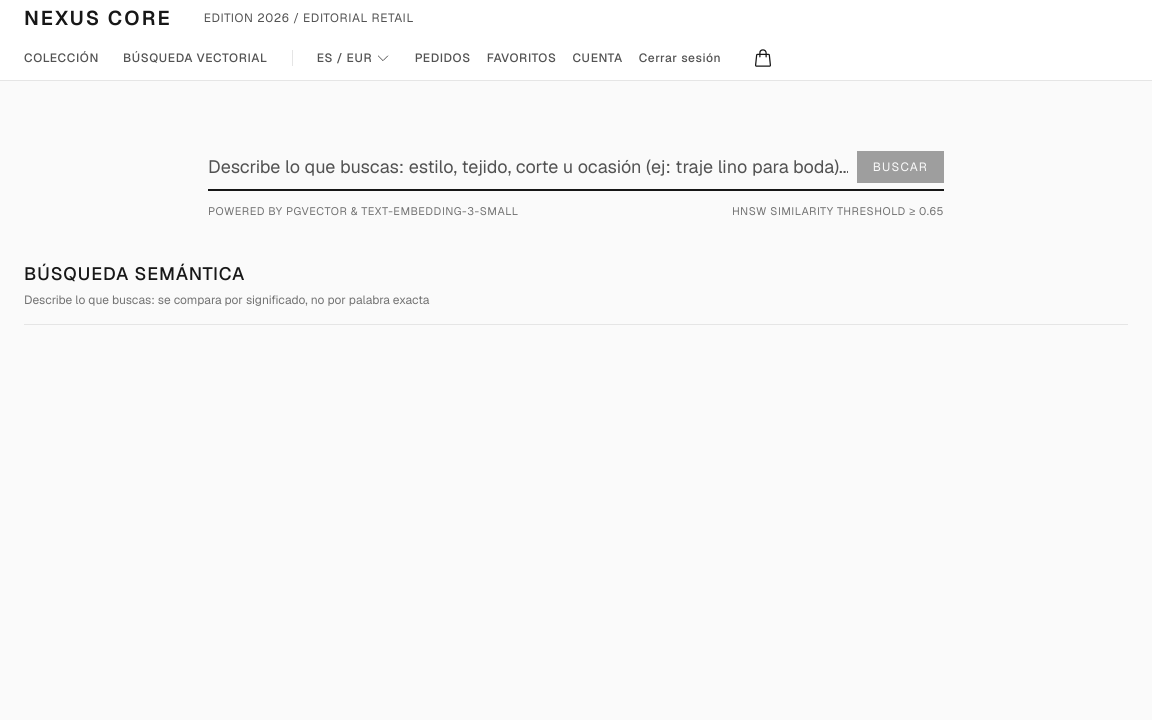
SearchPage (búsqueda semántica) › R6 — lanza la búsqueda y pinta los resultados devueltos
Type "traje lino para boda" into the field with placeholder "Describe lo que buscas".
click(576, 167); type("traje lino para boda")  # box [208, 153, 944, 181]
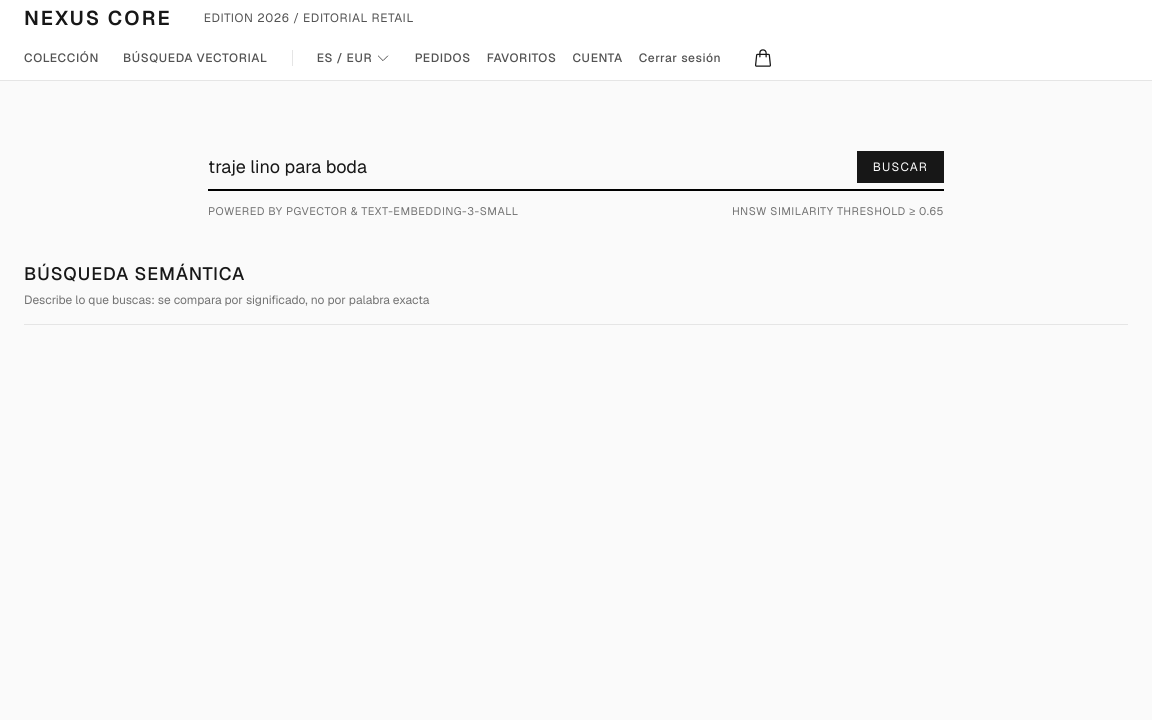
Click the button "Buscar".
click(900, 167)  # box [857, 151, 944, 183]
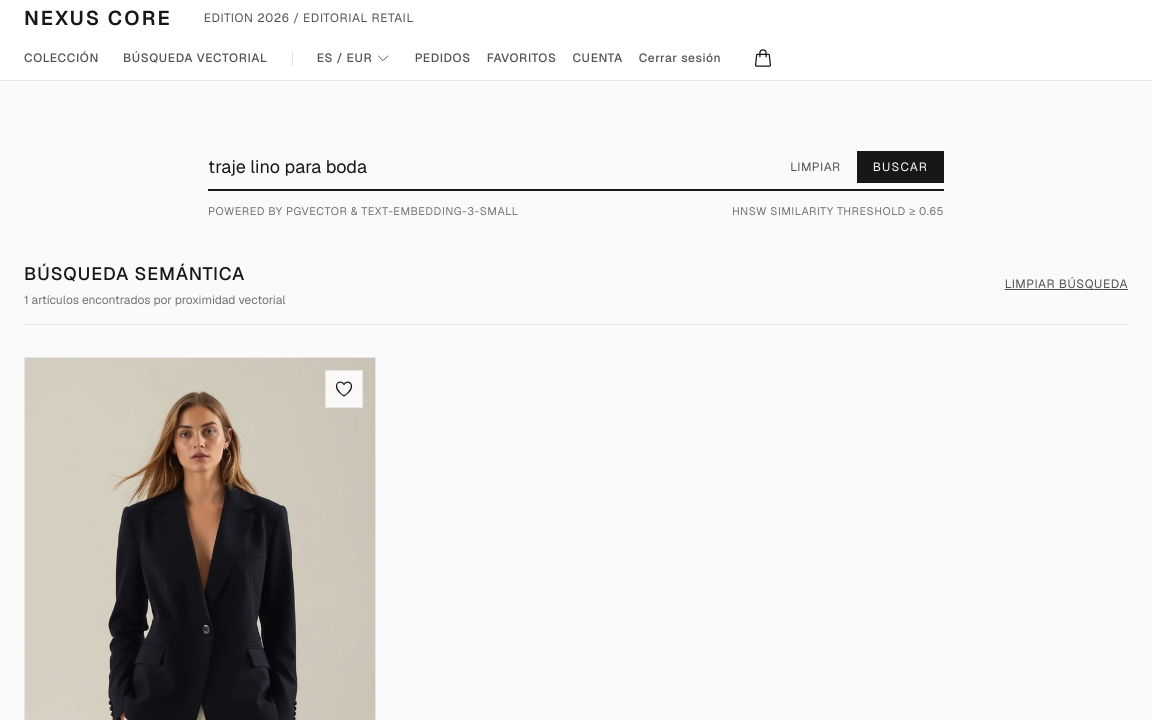
Result: the text "1 artículos encontrados por proximidad vectorial" is shown at [24, 292, 285, 308]
